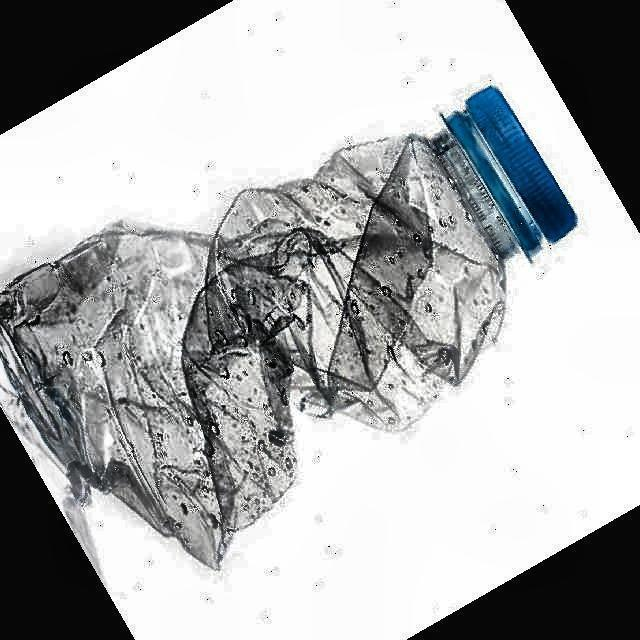plastic: (0, 86, 577, 568)
